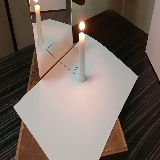fire: (78, 21, 85, 34)
